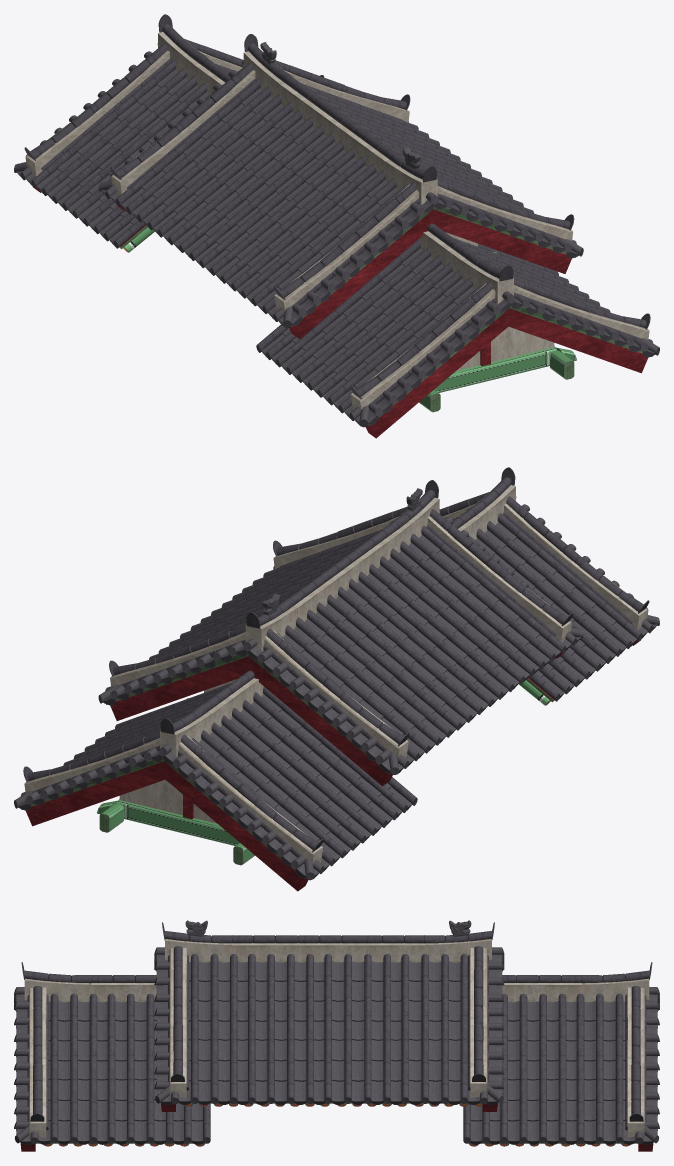
The model's file is SM_R_Jungyakmun.fbx.
The picture shows the model from 3 angles, top to bottom: view 1: azimuth 30°, elevation 25°; view 2: azimuth 150°, elevation 25°; view 3: azimuth 270°, elevation 25°; orthographic projection. The views are drawn at different scales.
Visible parts, largest first — view 1: SM_R_Jungyakmun; view 2: SM_R_Jungyakmun; view 3: SM_R_Jungyakmun.
Part boxes in pixels (<box>): SM_R_Jungyakmun: <box>14,14,659,438</box>; SM_R_Jungyakmun: <box>14,467,659,891</box>; SM_R_Jungyakmun: <box>14,920,659,1151</box>.
Size of the model in its own units: 618 by 1250 by 386.
Materials: 7 (7 with a texture image).
